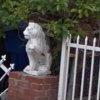Statue: (16, 16, 55, 80)
